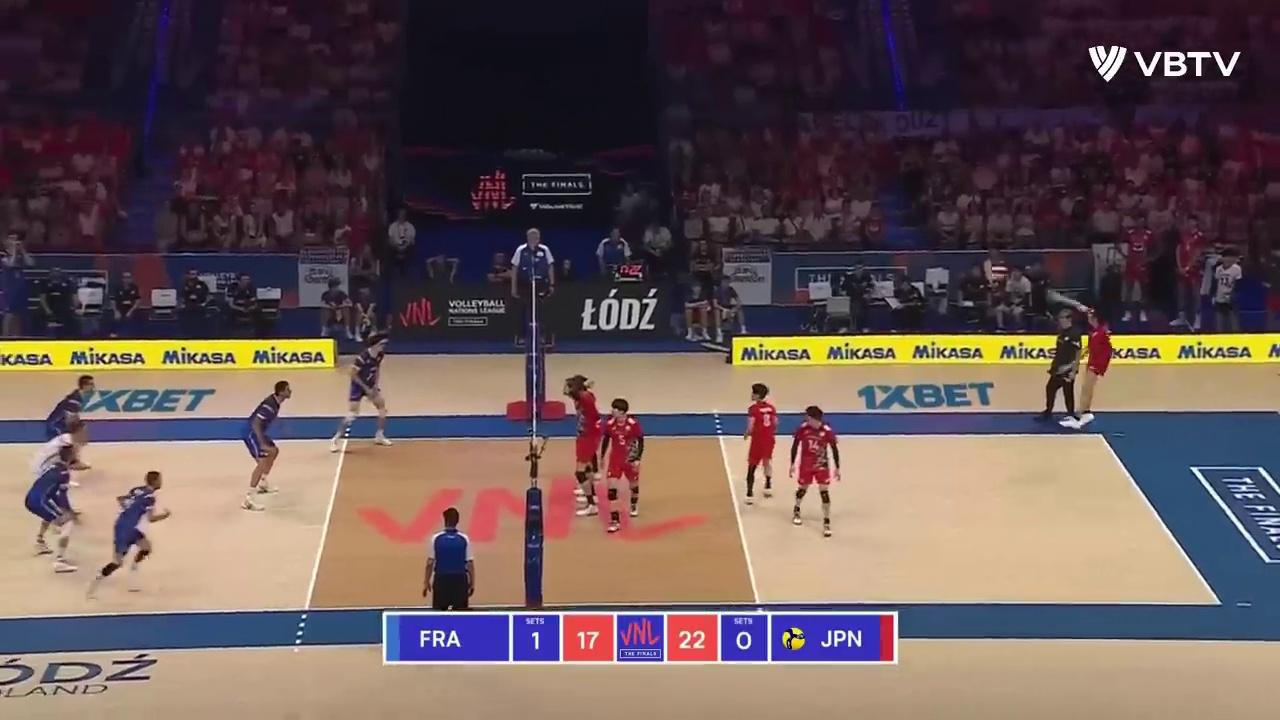ball: (988, 266, 1007, 280)
